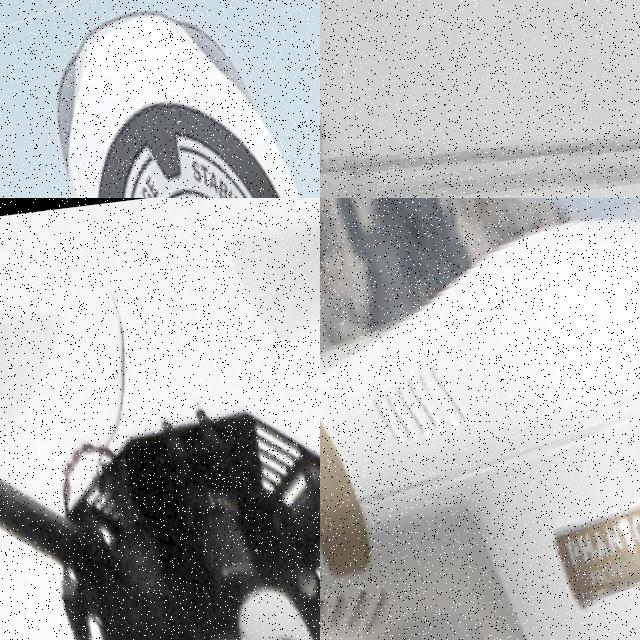drone: (0, 198, 320, 640), (320, 198, 640, 640), (0, 0, 320, 198)
